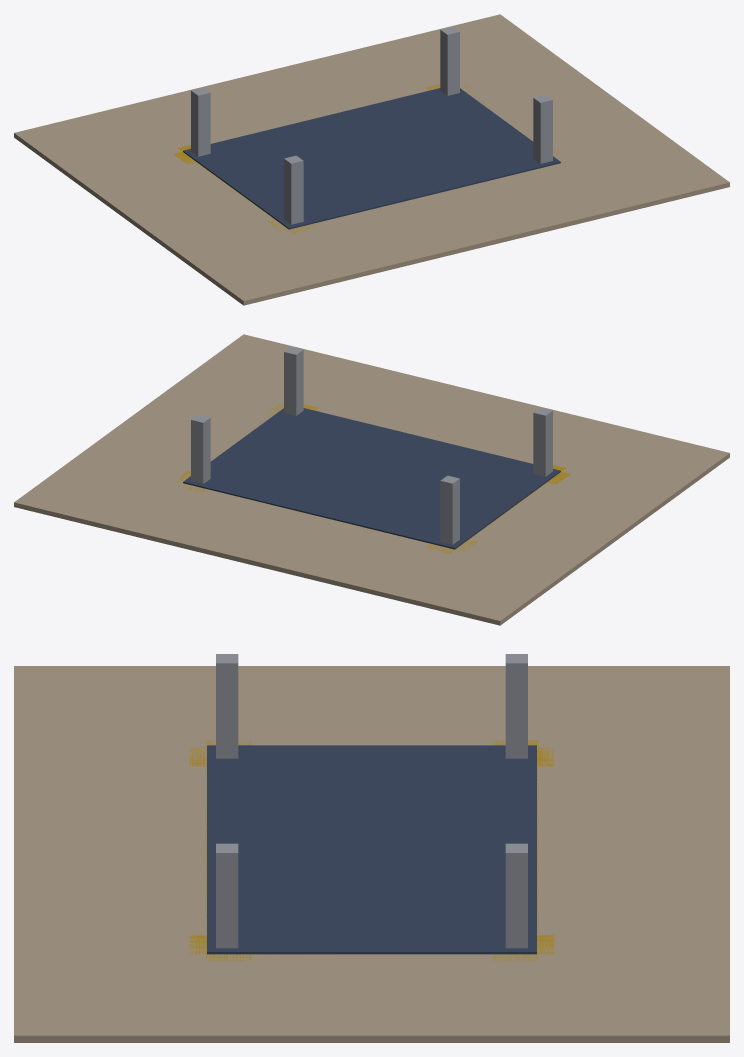
File: stage_04_columns.glb
The picture shows the model from 3 angles, top to bottom: view 1: azimuth 30°, elevation 25°; view 2: azimuth 150°, elevation 25°; view 3: azimuth 270°, elevation 25°; orthographic projection. The views are drawn at different scales.
Visible parts, largest first — view 1: world; view 2: world; view 3: world.
Part boxes in pixels (bbox=[...]): world: bbox=[14, 14, 729, 305]; world: bbox=[14, 334, 729, 625]; world: bbox=[14, 654, 729, 1042].
Bounding box in the file's own units: 11 × 2.15 × 9.
